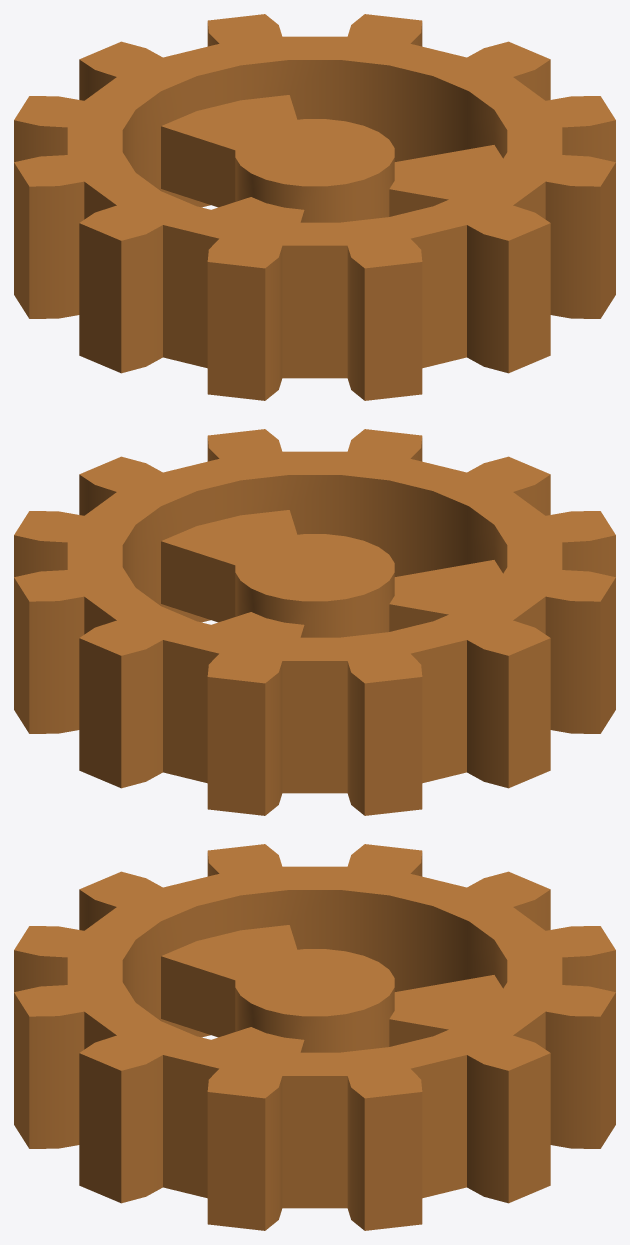
File: gear_mid_02.fbx
The picture shows the model from 3 angles, top to bottom: view 1: azimuth 30°, elevation 25°; view 2: azimuth 150°, elevation 25°; view 3: azimuth 270°, elevation 25°; orthographic projection.
Parts seen in each view (by area): view 1: Gear_Mid_02; view 2: Gear_Mid_02; view 3: Gear_Mid_02.
Boxes of the visible parts, left/top/right/bottom form: Gear_Mid_02: left=14, top=14, right=615, bottom=400; Gear_Mid_02: left=14, top=429, right=615, bottom=815; Gear_Mid_02: left=14, top=844, right=615, bottom=1230.
Size of the model in its own units: 447 by 109 by 447.
